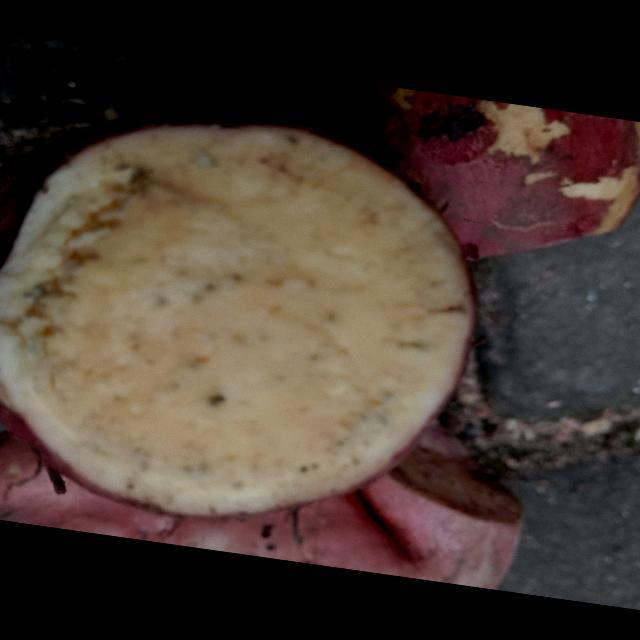Healthy Sweet Potato: (2, 110, 475, 515)
